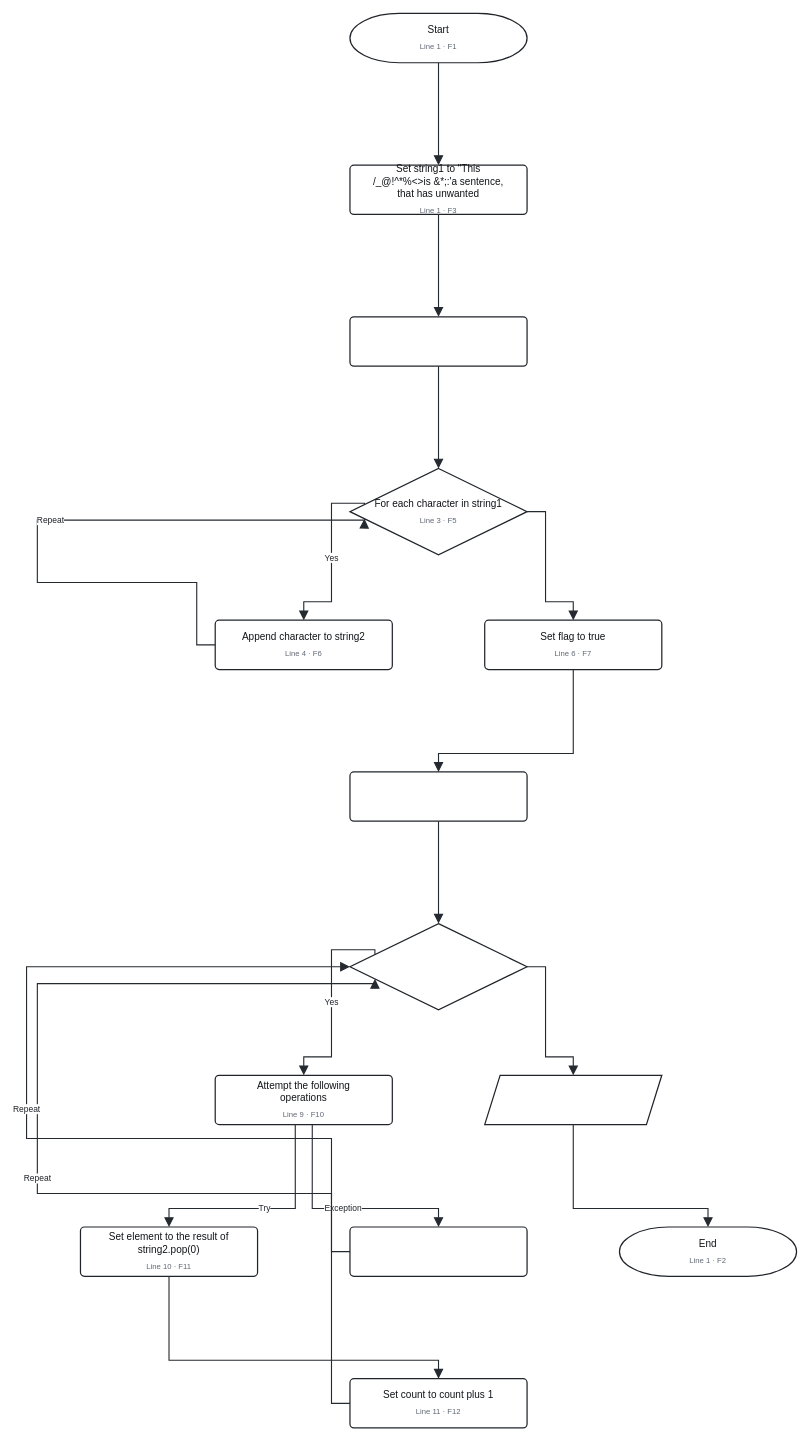
Some shapes in this 811 by 1442 pixel diagram are drawn without their labels. The centre of each missing label's shape, as x and y in pixels:
Continue while flag? Line 8 · F9: (438,966)
Display "String Length = {count} Characters" Line 16 · F14: (573,1099)
Set count to 0 Line 7 · F8: (438,796)
Set flag to false Line 13 · F13: (438,1251)
Set string2 to an empty list Line 2 · F4: (438,341)
